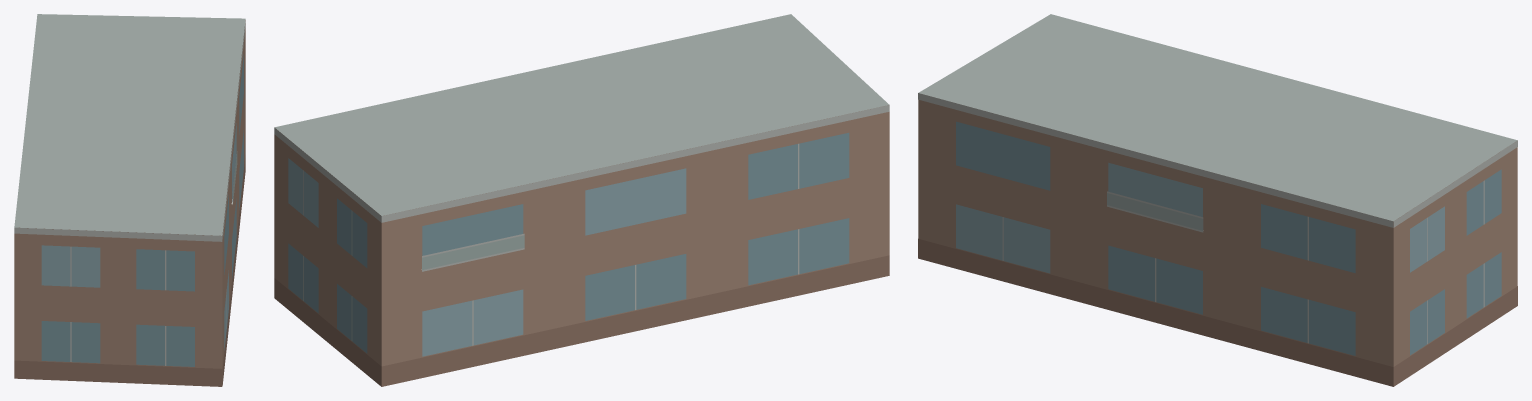
Rendered from survey-upis-32878067.glb.
3 views of the same model, side by side, from view 1: azimuth 30°, elevation 25°; view 2: azimuth 150°, elevation 25°; view 3: azimuth 270°, elevation 25° (orthographic). The views are drawn at different scales.
Visible parts, largest first — view 1: survey-upis-32878067.tmp; view 2: survey-upis-32878067.tmp; view 3: survey-upis-32878067.tmp.
Boxes of the visible parts, left/top/right/bottom form: survey-upis-32878067.tmp: left=14, top=14, right=245, bottom=386; survey-upis-32878067.tmp: left=274, top=14, right=889, bottom=386; survey-upis-32878067.tmp: left=918, top=14, right=1517, bottom=386.
Size of the model in its own units: 16.39 by 6.1 by 20.03.
